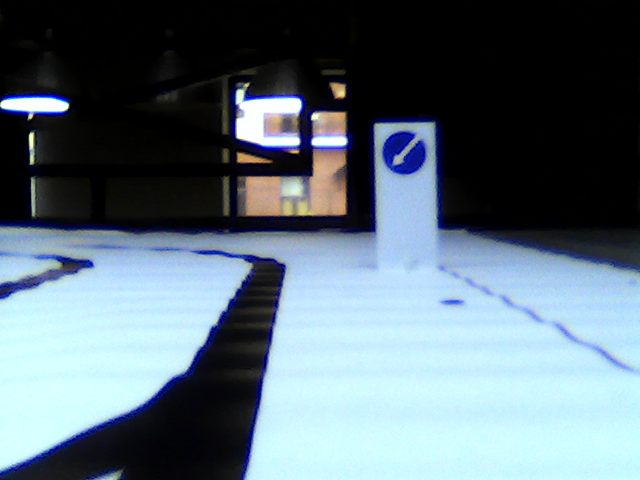prep: (382, 128, 428, 175)
